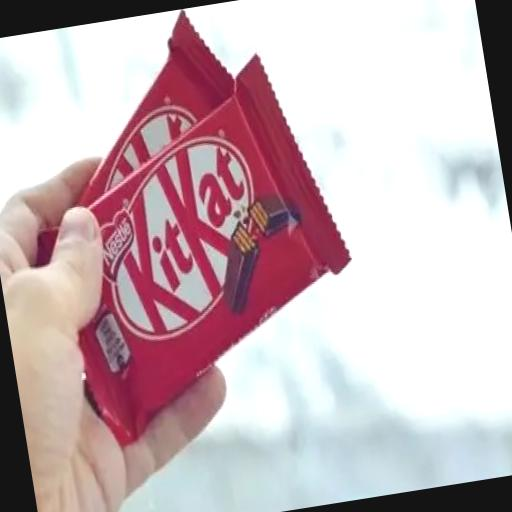kitkat: (22, 63, 376, 403)
